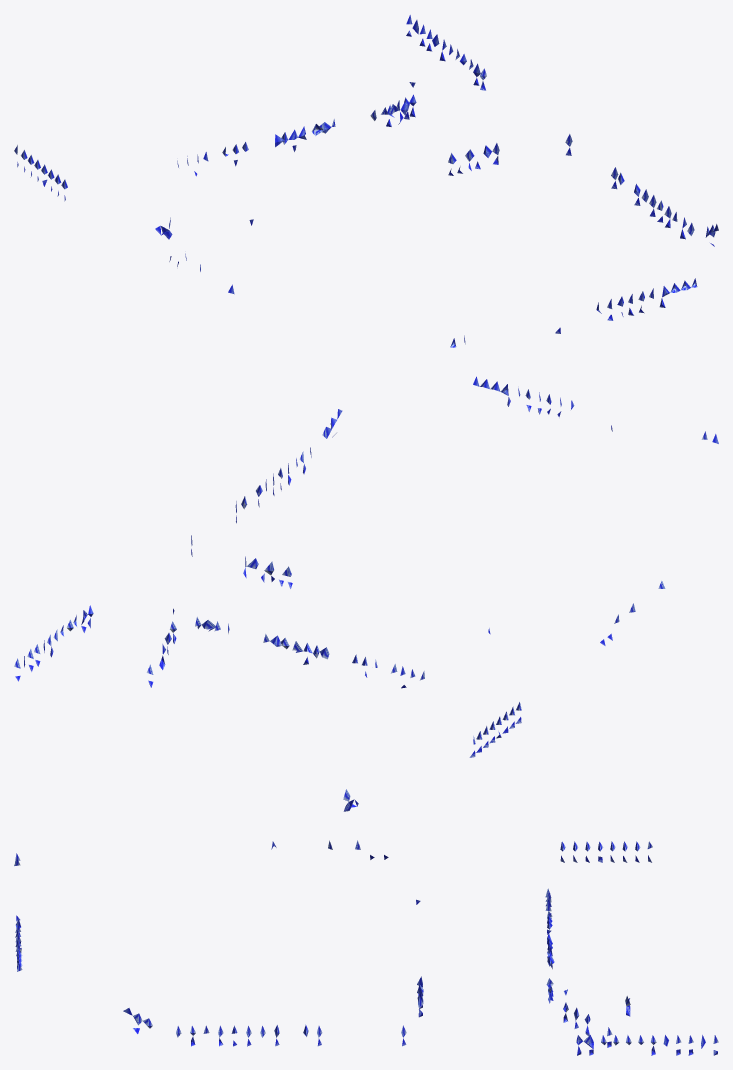
3 renders of one model, top to bottom at view 1: azimuth 30°, elevation 25°; view 2: azimuth 150°, elevation 25°; view 3: azimuth 270°, elevation 25°, orthographic. The views are drawn at different scales.
Bounding box in the file's own units: 0.8241 × 0.2804 × 1.26.
1 material, 1 textured.
